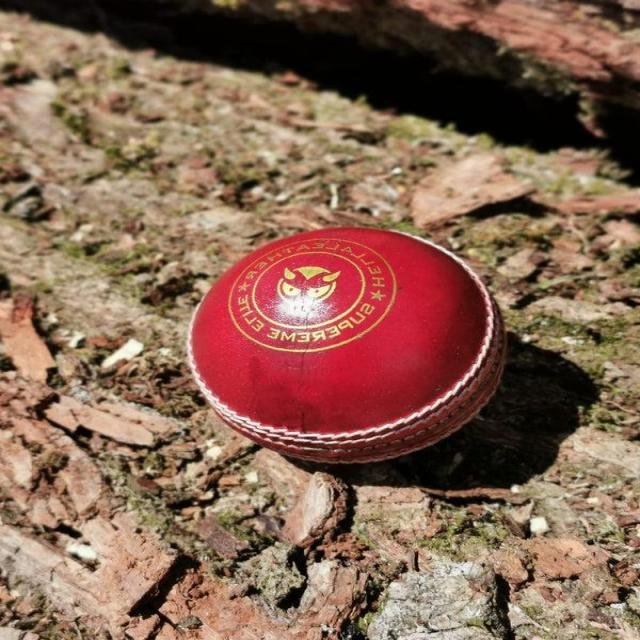ball: (187, 232, 506, 470)
